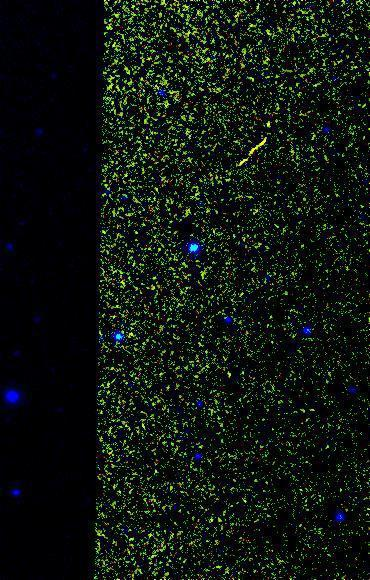star: (254, 107, 284, 137)
